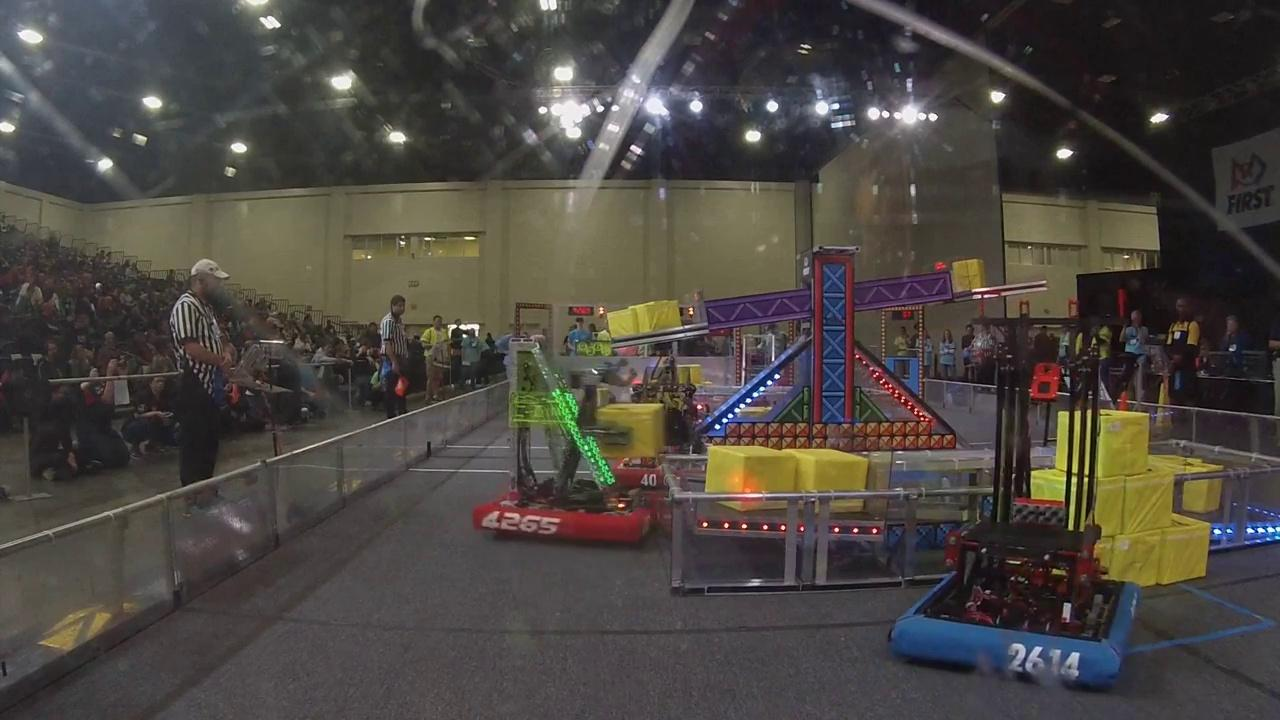robot: (886, 314, 1152, 693), (475, 336, 664, 547), (602, 377, 700, 488)
